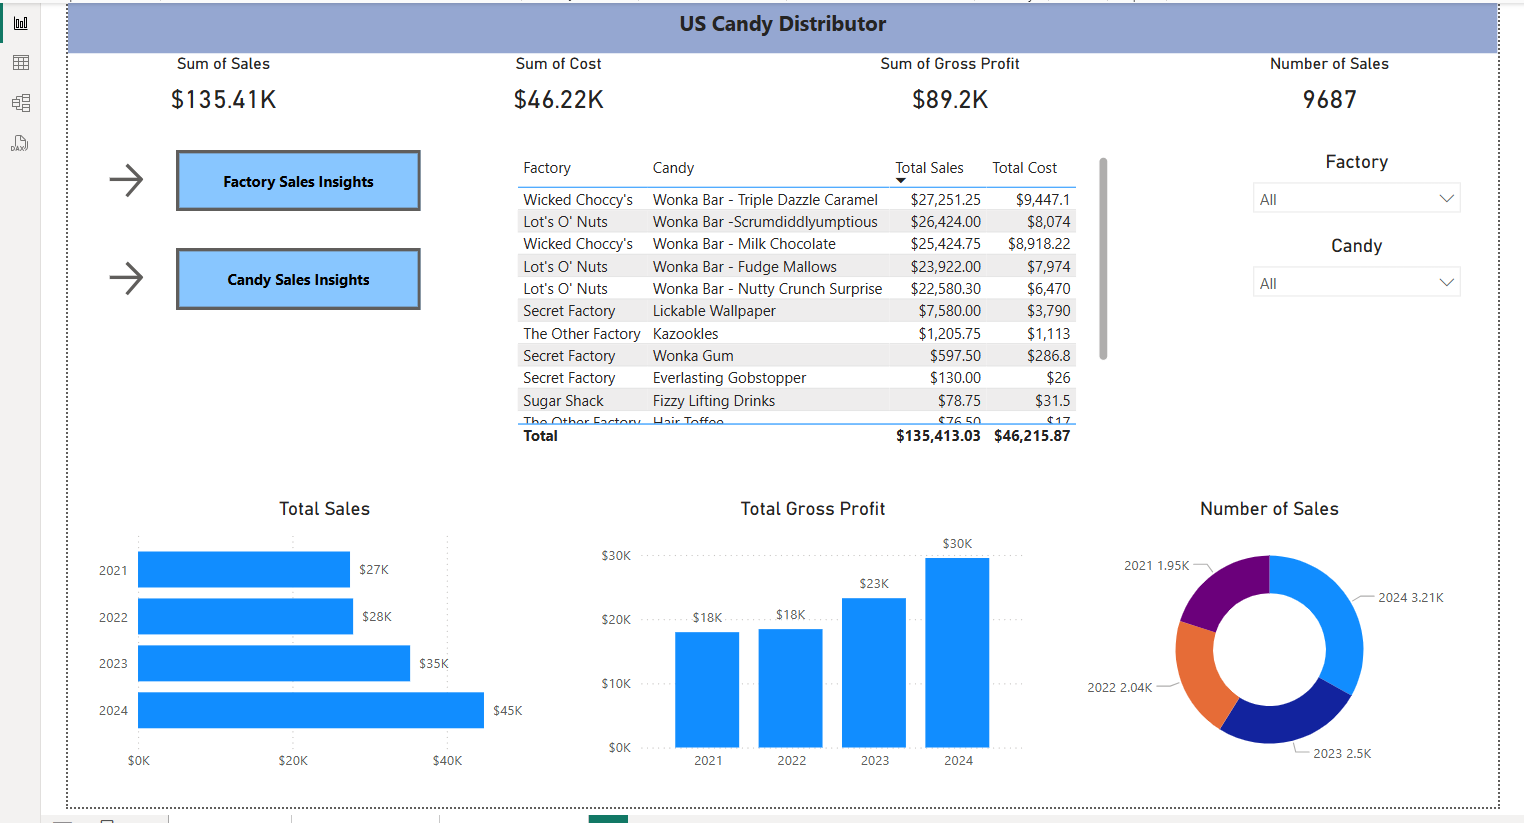

The dashboard page shown, as its layout file describes it:
{"tool":"powerbi","page":{"name":"Summary Page","canvas":[1280,720],"ordinal":0},"visuals":[{"type":"clusteredBarChart","title":"Total Sales","fields":{"Y":["Sum(candy_sales.sales)"],"Category":["date_details.year"]},"box":[19.7,442.4,420,254.3],"z":0},{"type":"clusteredColumnChart","title":"Total Gross Profit","fields":{"Y":["Sum(candy_sales.gross_profit)"],"Category":["date_details.year"]},"box":[471.9,442.4,390.4,254.3],"z":1000},{"type":"donutChart","title":"Number of Sales ","fields":{"Y":["CountNonNull(candy_sales.sales)"],"Category":["date_details.year"]},"box":[894.6,442.4,362.7,254.3],"z":2000},{"type":"slicer","title":"Factory","fields":{"Values":["candy_factories.factory"]},"box":[1051.3,131.6,206,67.2],"z":3000},{"type":"textbox","box":[0,0,1280,45.4],"z":4000},{"type":"group","id":"g1","title":"Group 1","box":[0,45.4,1280,63.7],"z":5000},{"type":"card","title":"Sum of Sales","fields":{"Values":["Sum(candy_sales.sales)"]},"box":[0,45.4,278.4,63.7],"z":6000,"group":"g1"},{"type":"slicer","title":"Candy","fields":{"Values":["candy_products.product_name"]},"box":[1051.3,206.9,206,68.1],"z":6000},{"type":"card","title":"Sum of Gross Profit","fields":{"Values":["Sum(candy_sales.gross_profit)"]},"box":[600.1,45.4,379.9,63.7],"z":7000,"group":"g1"},{"type":"actionButton","title":"d","box":[96.7,131.6,219.4,54.6],"z":7000},{"type":"card","title":"Sum of Cost","fields":{"Values":["Sum(candy_sales.cost)"]},"box":[278.4,45.4,321.6,63.7],"z":8000,"group":"g1"},{"type":"actionButton","title":"d","box":[96.7,219.4,219.4,55.5],"z":8000},{"type":"card","title":"Number of Sales","fields":{"Values":["CountNonNull(candy_sales.sales)"]},"box":[980,45.4,300,63.7],"z":9000,"group":"g1"},{"type":"actionButton","box":[31.3,138.8,53.7,40.3],"z":9000},{"type":"actionButton","box":[31.3,226.6,53.7,40.3],"z":10000},{"type":"tableEx","fields":{"Values":["candy_factories.factory","candy_products.product_name","Sum(candy_sales.sales)","Sum(candy_sales.cost)"]},"box":[396.7,132.5,540,268.7],"z":11000}]}

Visuals, with their boxes on the page's 1280x720 design canvas (x1, y1, x2, y2). These are canvas units, not pixel positions in the 1524x823 screenshot, which may show the page scaled, cropped or inside an application window:
"Total Sales" clusteredBarChart: 20/442/440/697
"Total Gross Profit" clusteredColumnChart: 472/442/862/697
"Number of Sales " donutChart: 895/442/1257/697
"Factory" slicer: 1051/132/1257/199
textbox: 0/0/1280/45
"Group 1" group: 0/45/1280/109
"Sum of Sales" card: 0/45/278/109
"Candy" slicer: 1051/207/1257/275
"Sum of Gross Profit" card: 600/45/980/109
"d" actionButton: 97/132/316/186
"Sum of Cost" card: 278/45/600/109
"d" actionButton: 97/219/316/275
"Number of Sales" card: 980/45/1280/109
actionButton: 31/139/85/179
actionButton: 31/227/85/267
tableEx - candy_factories.factory x candy_products.product_name: 397/132/937/401
